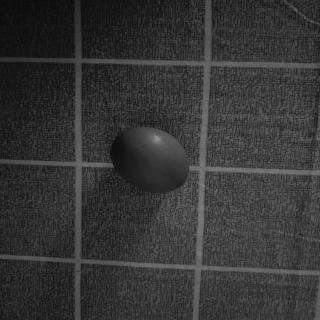Telur: (101, 121, 203, 199)
